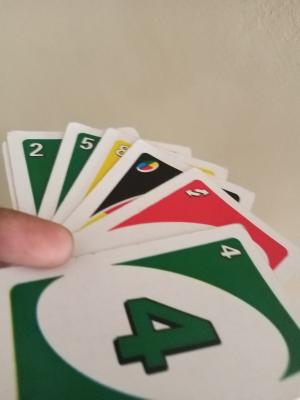green: (15, 278, 278, 384)
num_2: (25, 140, 48, 162)
num_4: (212, 243, 247, 262)
num_5: (76, 131, 94, 153)
reverse: (181, 182, 210, 201)
wild: (134, 153, 163, 179)
